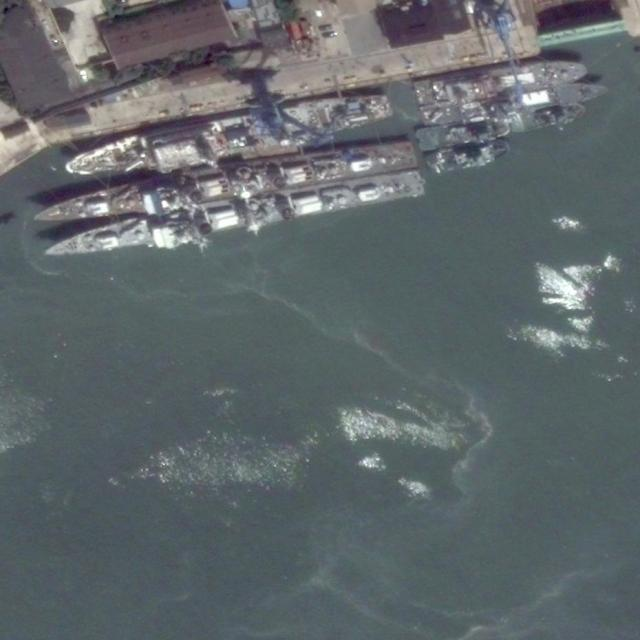Destroyer: (41, 169, 426, 260), (29, 136, 417, 225)
